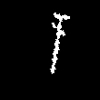double_crochet: (51, 13, 69, 72)
